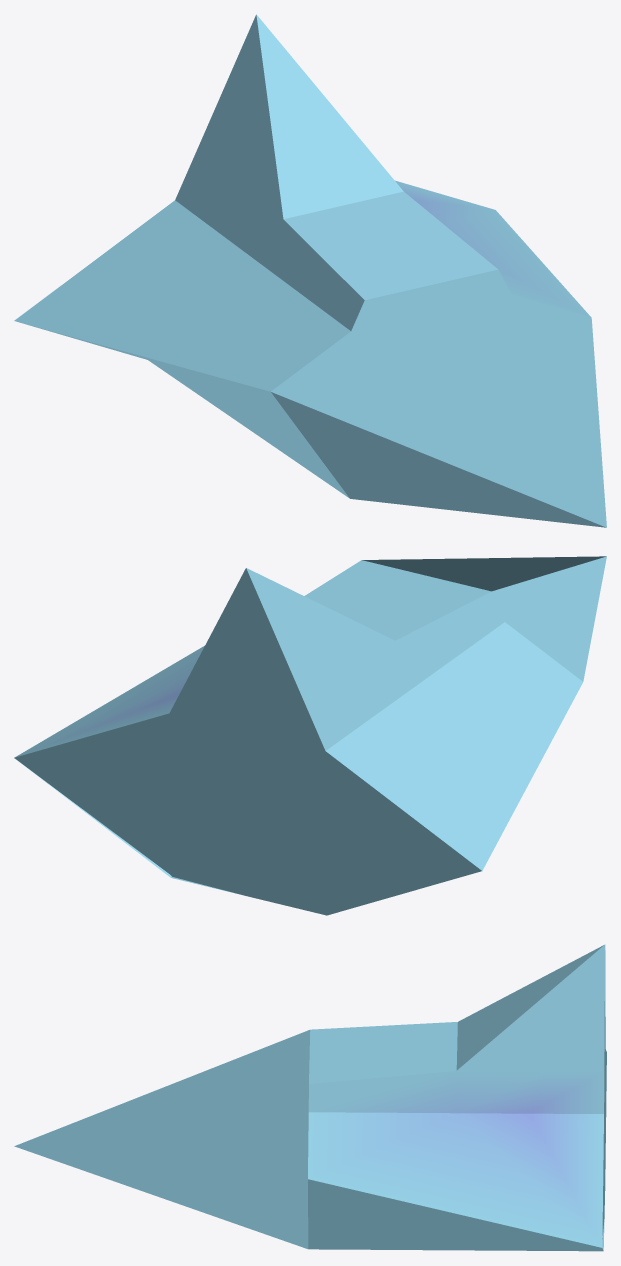
The model's file is spaceship.glb.
3 renders of one model, top to bottom at view 1: azimuth 30°, elevation 25°; view 2: azimuth 150°, elevation 25°; view 3: azimuth 270°, elevation 25°, orthographic. The views are drawn at different scales.
Visible parts, largest first — view 1: Cube; view 2: Cube; view 3: Cube.
Boxes of the visible parts, x1=… form: Cube: x1=14, y1=14, x2=606, y2=527; Cube: x1=14, y1=556, x2=606, y2=915; Cube: x1=14, y1=944, x2=606, y2=1251.
Size of the model in its own units: 6 by 4.02 by 7.81.
